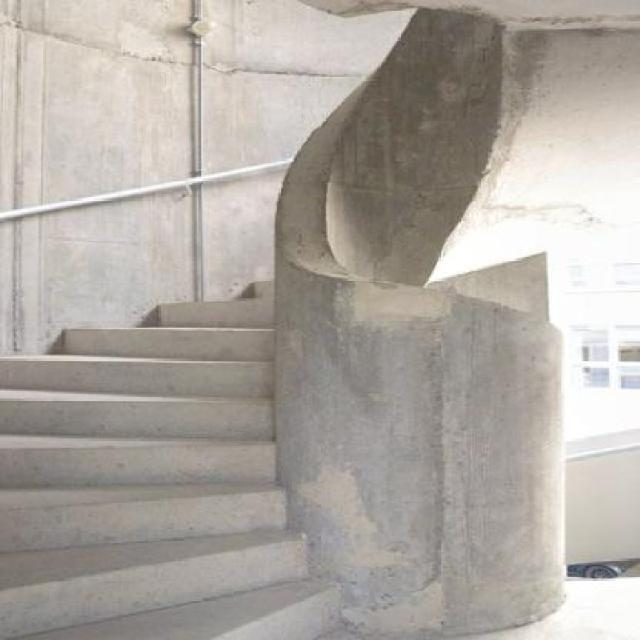stair: (1, 170, 468, 639)
